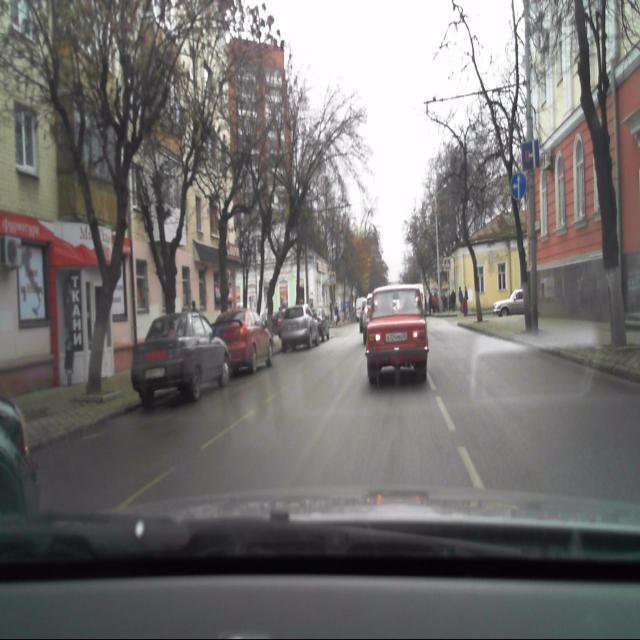road sign: (521, 139, 540, 171), (442, 254, 452, 271), (327, 269, 336, 285)
